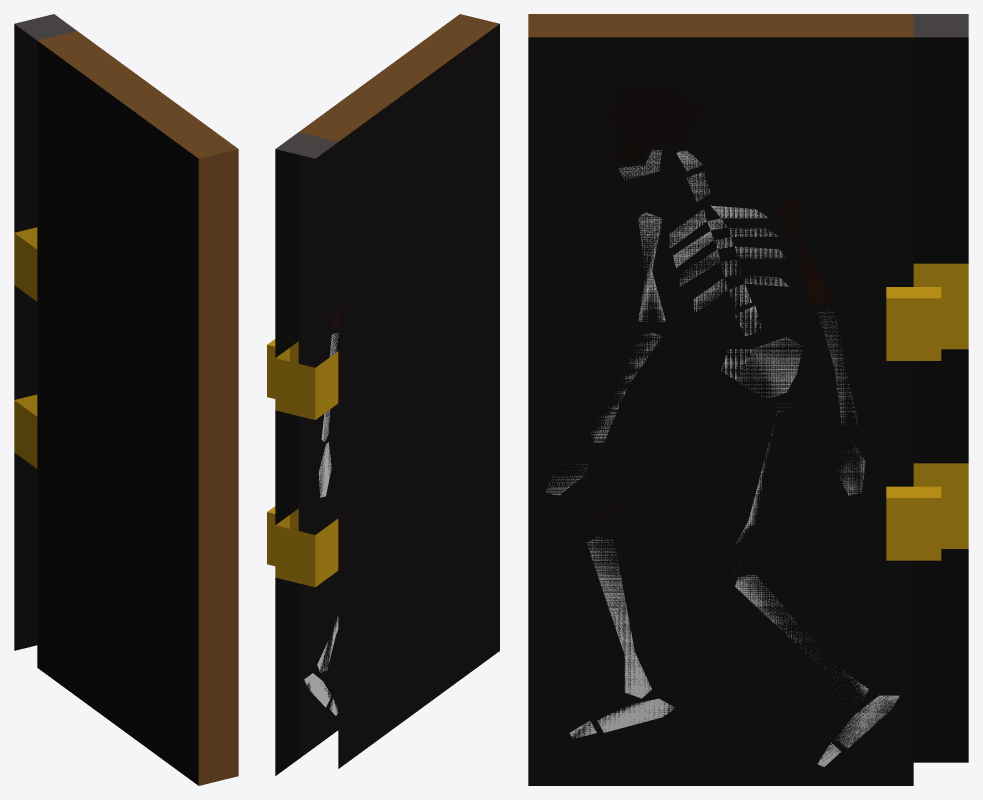
Rendered from obj_tomb_doors_5_0.obj.
3 renders of one model, left to right at view 1: azimuth 30°, elevation 25°; view 2: azimuth 150°, elevation 25°; view 3: azimuth 270°, elevation 25°, orthographic. The views are drawn at different scales.
Bounding box in the file's own units: 0.1875 × 1.88 × 1.
